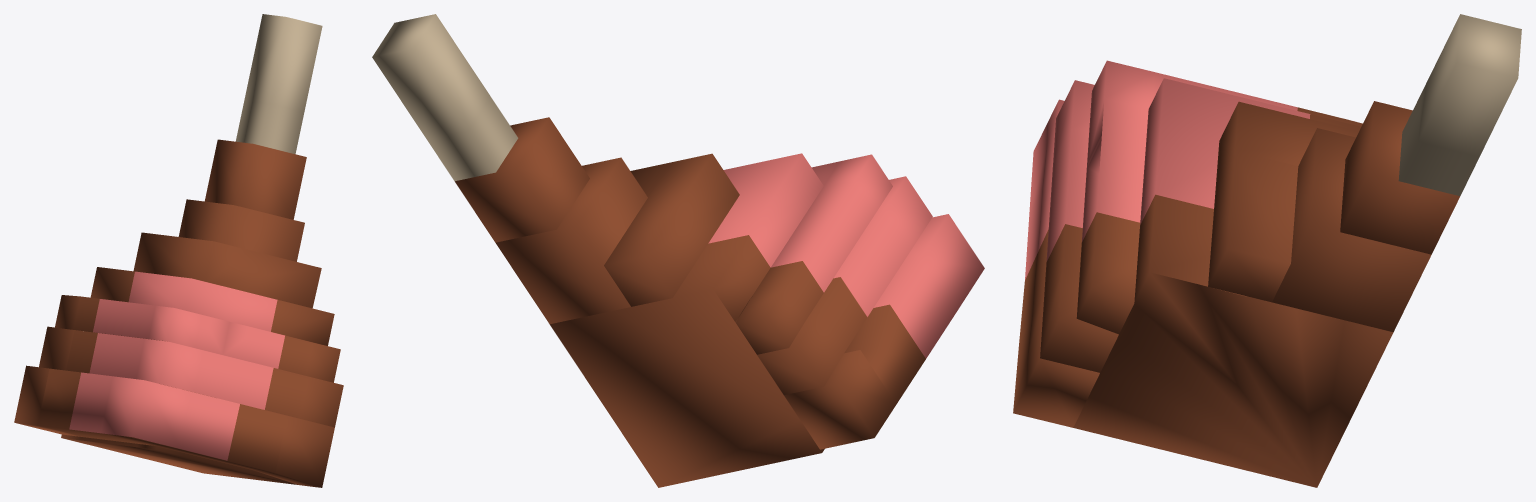
The model's file is hammetje.fbx.
3 renders of one model, left to right at view 1: azimuth 30°, elevation 25°; view 2: azimuth 150°, elevation 25°; view 3: azimuth 270°, elevation 25°, orthographic. The views are drawn at different scales.
Visible parts, largest first — view 1: Cube.002; view 2: Cube.002; view 3: Cube.002.
Boxes of the visible parts, bbox=[...] form: Cube.002: bbox=[14, 14, 343, 487]; Cube.002: bbox=[372, 14, 984, 487]; Cube.002: bbox=[1013, 14, 1521, 487].
Size of the model in its own units: 230 by 245 by 199.
